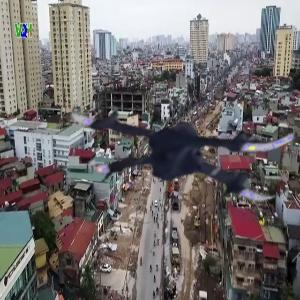drone: (76, 20, 300, 244)
